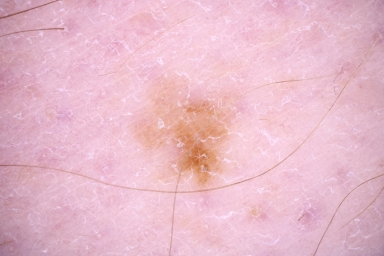melanoma: (174, 97, 230, 188)
